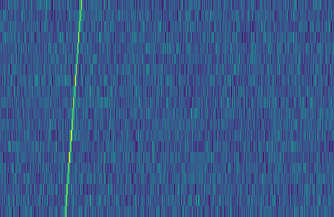signal: (58, 0, 83, 217)
